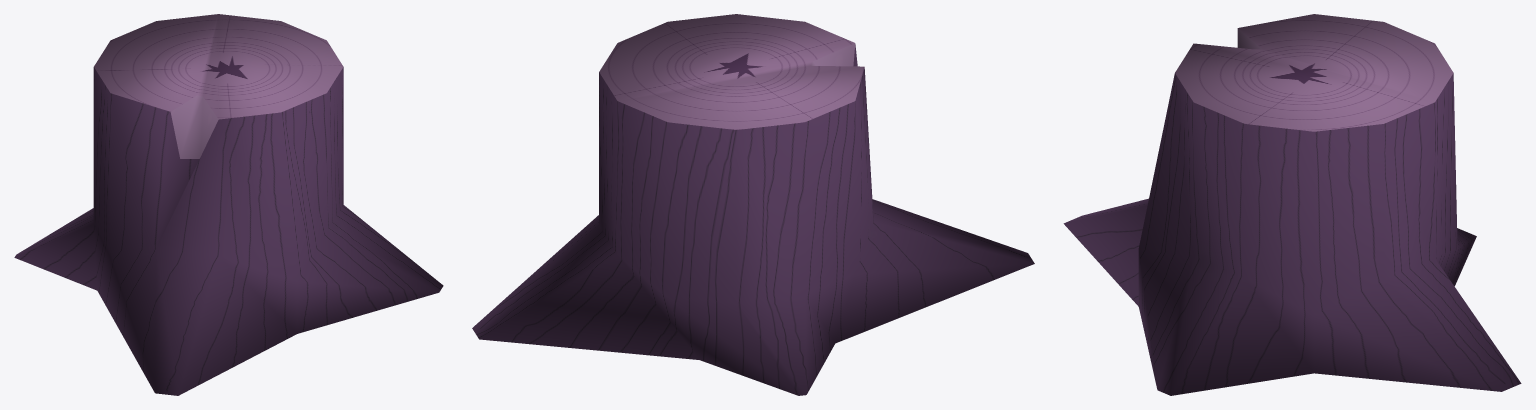
Rendered from SoucheArbre.fbx.
3 views of the same model, side by side, from view 1: azimuth 30°, elevation 25°; view 2: azimuth 150°, elevation 25°; view 3: azimuth 270°, elevation 25° (orthographic). The views are drawn at different scales.
Visible parts, largest first — view 1: buche; view 2: buche; view 3: buche.
Part boxes in pixels (left/top/right/bottom): buche: left=14, top=14, right=443, bottom=395; buche: left=472, top=14, right=1034, bottom=395; buche: left=1063, top=14, right=1521, bottom=395.
Size of the model in its own units: 364 by 224 by 394.
